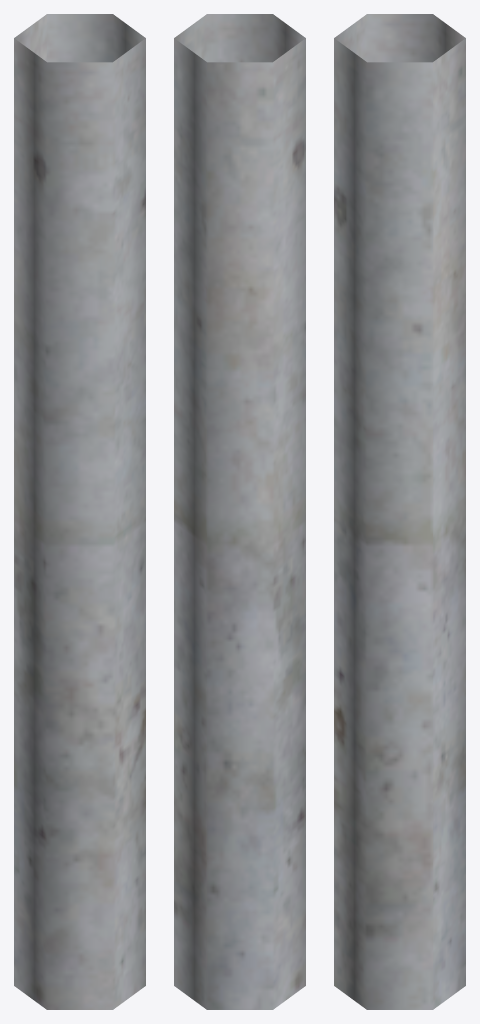
File: SM_Wires_Pipes_01z.glb
3 renders of one model, left to right at view 1: azimuth 90°, elevation 25°; view 2: azimuth 210°, elevation 25°; view 3: azimuth 270°, elevation 25°, orthographic.
Parts seen in each view (by area): view 1: SM_Wires_Pipes_01z; view 2: SM_Wires_Pipes_01z; view 3: SM_Wires_Pipes_01z.
Part boxes in pixels (x1,y1,x2,y2): SM_Wires_Pipes_01z: (14, 14, 145, 1009); SM_Wires_Pipes_01z: (174, 14, 305, 1009); SM_Wires_Pipes_01z: (334, 14, 465, 1009).
Bounding box in the file's own units: 0.0273 × 0.25 × 0.0315.
Materials: 1 (1 with a texture image).
